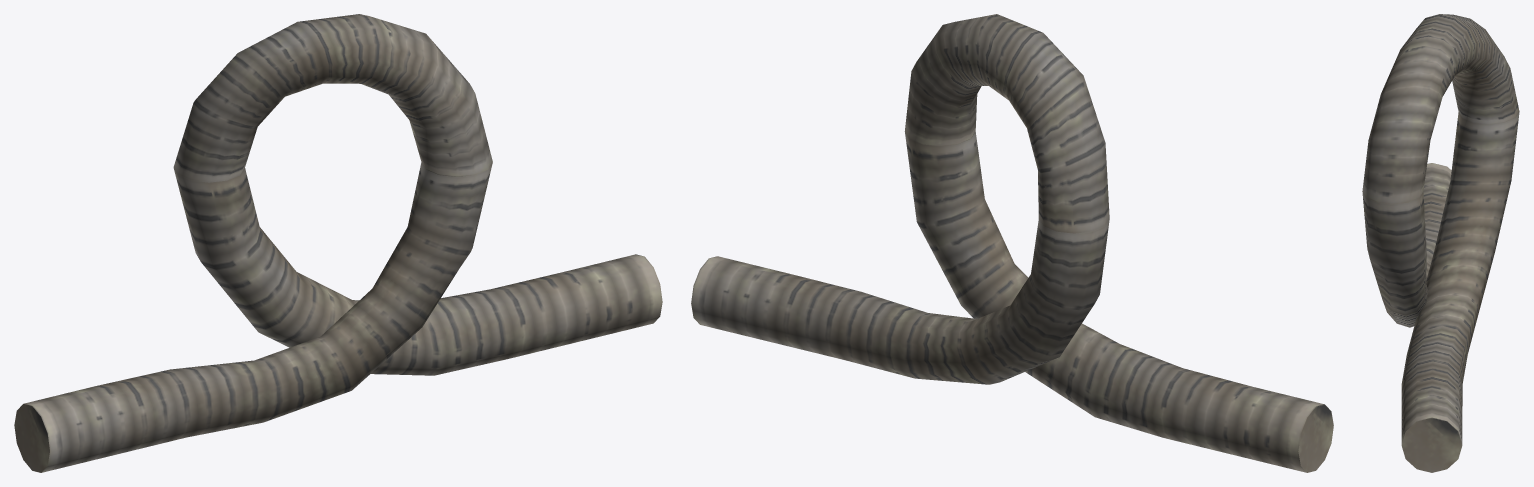
File: NM_ThinTube_Plastic_03.fbx
3 views of the same model, side by side, from view 1: azimuth 30°, elevation 25°; view 2: azimuth 150°, elevation 25°; view 3: azimuth 270°, elevation 25° (orthographic). The views are drawn at different scales.
Visible parts, largest first — view 1: Tube_Plastic_02_low; view 2: Tube_Plastic_02_low; view 3: Tube_Plastic_02_low.
Boxes of the visible parts, <box> form: Tube_Plastic_02_low: <box>14,14,662,472</box>; Tube_Plastic_02_low: <box>691,14,1333,472</box>; Tube_Plastic_02_low: <box>1362,14,1519,472</box>.
Bounding box in the file's own units: 71.57 × 41.87 × 18.64.
